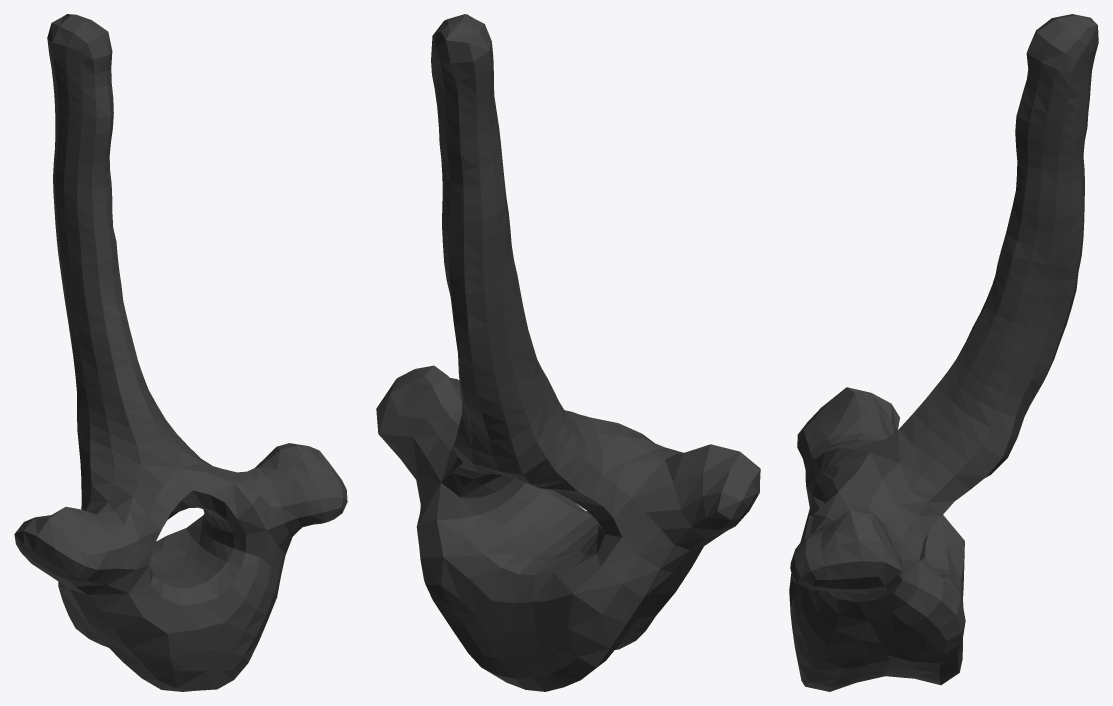
3 renders of one model, left to right at view 1: azimuth 30°, elevation 25°; view 2: azimuth 150°, elevation 25°; view 3: azimuth 270°, elevation 25°, orthographic. The views are drawn at different scales.
Visible parts, largest first — view 1: T3; view 2: T3; view 3: T3.
Part boxes in pixels (x1,y1,x2,y2): T3: [14, 14, 347, 691]; T3: [376, 14, 760, 691]; T3: [789, 14, 1098, 691].
Bounding box in the file's own units: 2.27 × 4.27 × 1.81.
1 material, 1 textured.
